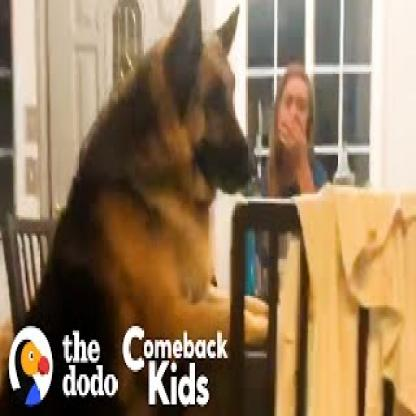german shepherd: (9, 7, 248, 416)
